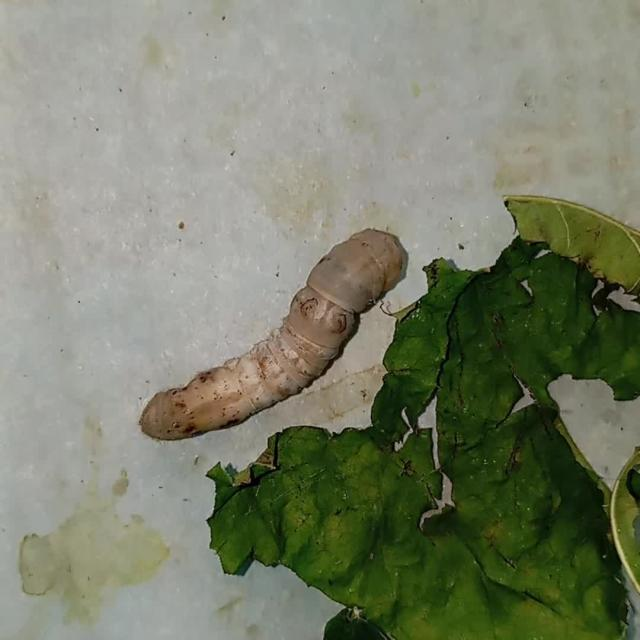Grasserie: (129, 198, 416, 455)
